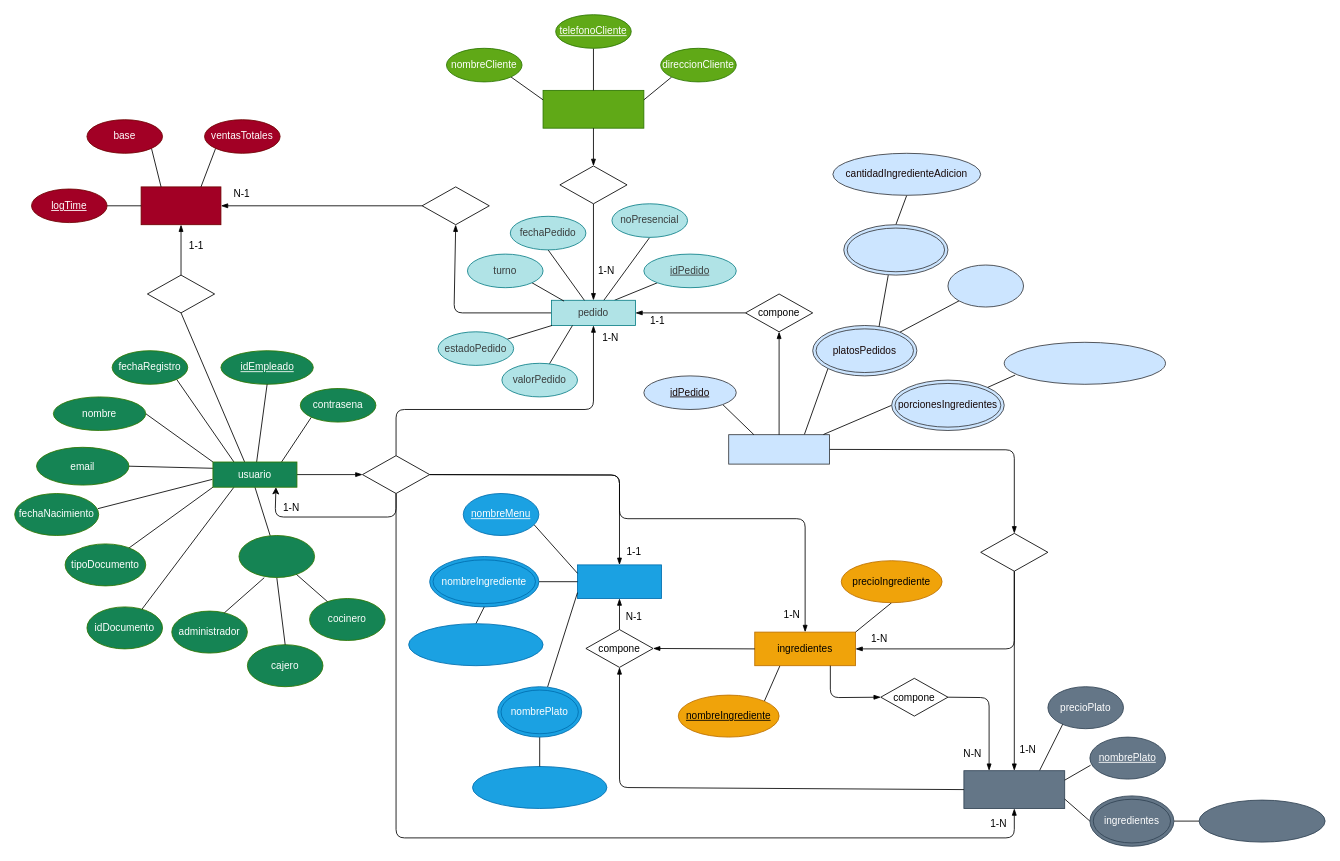
Image size: 1340x861. Some labels were removed from this diagram. The shapes that lost their labels are listed below. From the top down, each one's centre as x and y in pixels, then its label:
At pixel 593 109: "clienteNoPresencial".
At pixel 593 184: "solicita".
At pixel 180 205: "caja".
At pixel 455 205: "registra".
At pixel 895 249: "adicion".
At pixel 181 293: "administra".
At pixel 985 285: "cantidadPlato".
At pixel 1084 362: "cantidadIngredientePorcion".
At pixel 779 449: "detallePedido".
At pixel 396 474: "crea".
At pixel 276 556: "rol".
At pixel 1014 552: "tiene".
At pixel 619 581: "menu".
At pixel 475 644: "cantidadDispoIngrediente".
At pixel 539 787: "cantidadDispoIPlato".
At pixel 1014 789: "plato".
At pixel 1261 820: "cantidadIngredientePlato".
